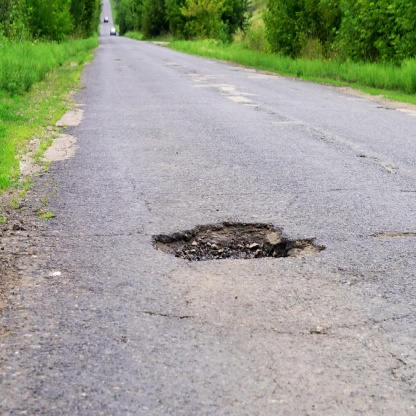pothole: (143, 205, 329, 281)
